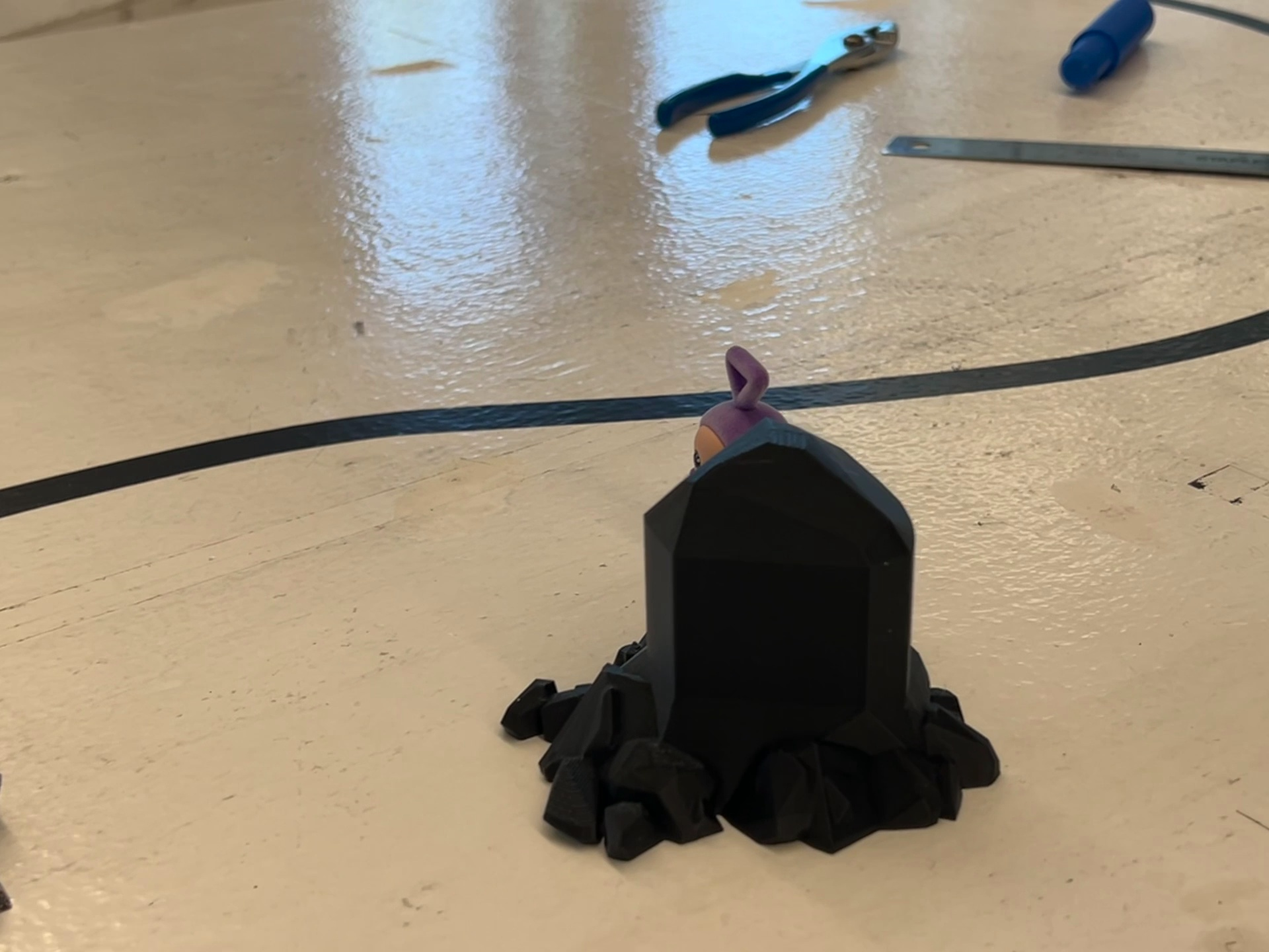teletubby: (693, 346, 785, 467)
